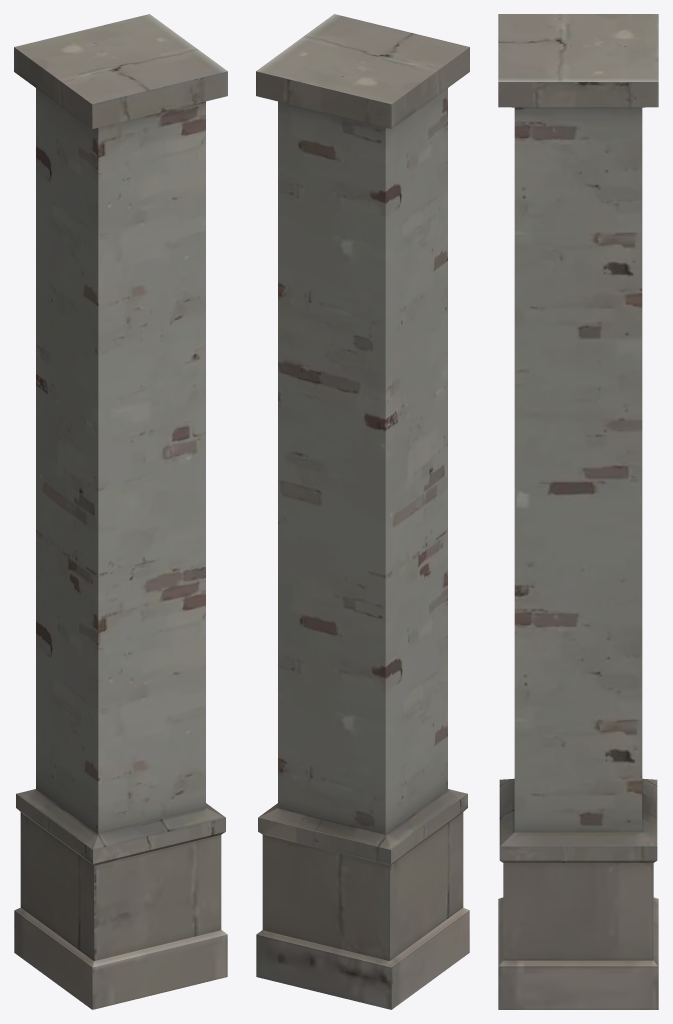
3 views of the same model, side by side, from view 1: azimuth 30°, elevation 25°; view 2: azimuth 150°, elevation 25°; view 3: azimuth 270°, elevation 25° (orthographic). The views are drawn at different scales.
Parts seen in each view (by area): view 1: body0_model0_lod0_mesh0; view 2: body0_model0_lod0_mesh0; view 3: body0_model0_lod0_mesh0.
Boxes of the visible parts, bbox=[...] form: body0_model0_lod0_mesh0: bbox=[14, 14, 227, 1009]; body0_model0_lod0_mesh0: bbox=[256, 14, 469, 1009]; body0_model0_lod0_mesh0: bbox=[498, 14, 658, 1009].
Size of the model in its own units: 40.13 by 256 by 40.13.
Materials: 1 (1 with a texture image).
